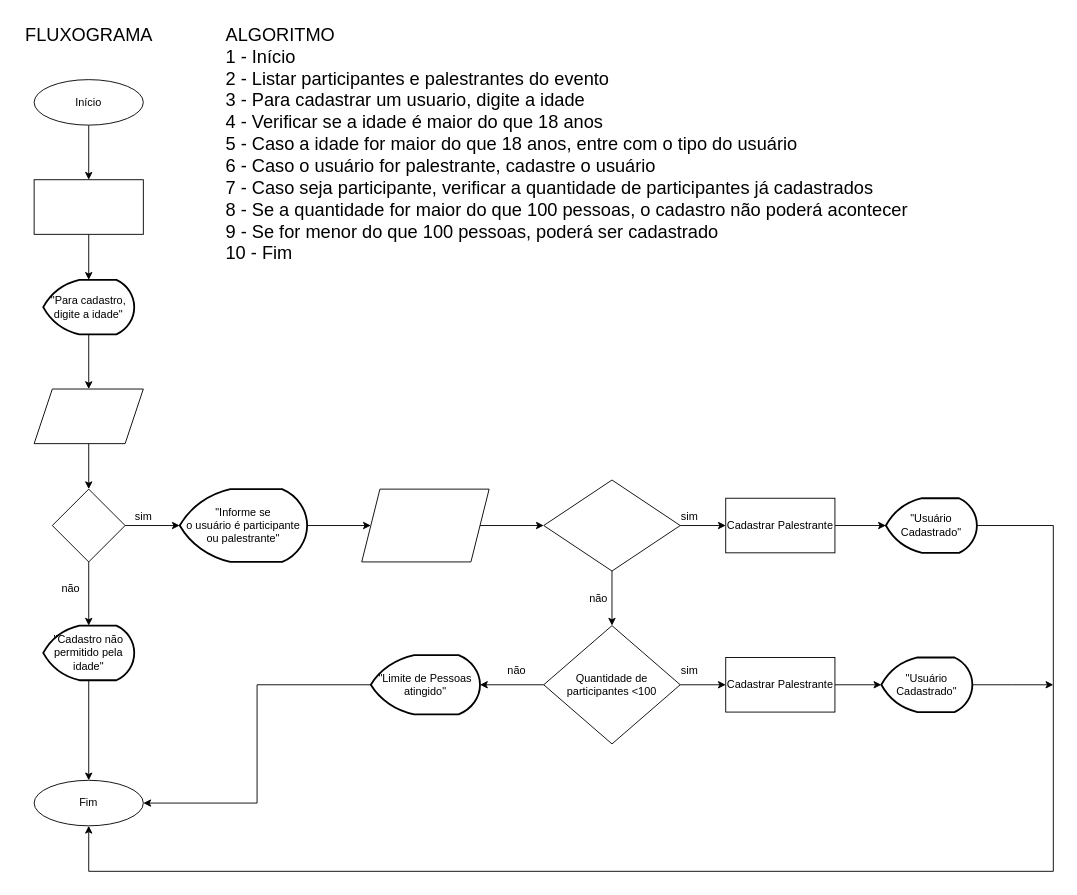
The diagram is 1077 pixels wide and 895 high, and some of its shapes have lost their labels. Here are the shapes that lost their labels. From the top down, the centre of each, then its label:
pixel 88 206: Listar Participantes e Palestrantes do evento
pixel 88 416: Entrada da idade
pixel 88 525: idade > 18
pixel 425 525: Entrada do tipo do usuário
pixel 611 525: Usuário = palestrante
